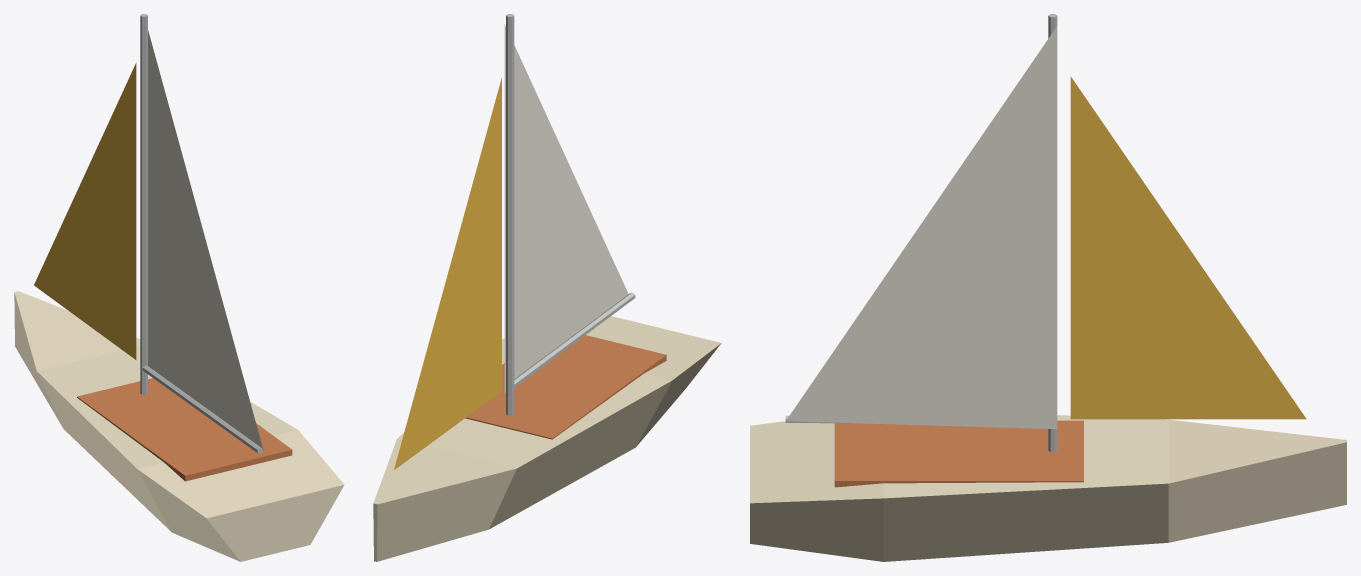
File: sailboat_far.glb
3 renders of one model, left to right at view 1: azimuth 30°, elevation 25°; view 2: azimuth 150°, elevation 25°; view 3: azimuth 270°, elevation 25°, orthographic. The views are drawn at different scales.
Visible parts, largest first — view 1: Sailboat hull, Triangular mainsail, Jib, Teak deck, SailboatModel traffic_metal; view 2: Sailboat hull, Triangular mainsail, Jib, Teak deck, SailboatModel traffic_metal; view 3: Sailboat hull, Triangular mainsail, Jib, Teak deck.
Part boxes in pixels (x1=…): Sailboat hull: x1=14, y1=291, x2=344, y2=561; Triangular mainsail: x1=148, y1=30, x2=263, y2=449; Jib: x1=34, y1=63, x2=136, y2=359; Teak deck: x1=77, y1=378, x2=292, y2=481; SailboatModel traffic_metal: x1=140, y1=14, x2=262, y2=453; Sailboat hull: x1=373, y1=316, x2=721, y2=561; Triangular mainsail: x1=504, y1=24, x2=628, y2=392; Jib: x1=394, y1=77, x2=501, y2=469; Teak deck: x1=465, y1=335, x2=666, y2=439; SailboatModel traffic_metal: x1=506, y1=14, x2=635, y2=415; Sailboat hull: x1=750, y1=415, x2=1346, y2=561; Triangular mainsail: x1=786, y1=26, x2=1057, y2=429; Jib: x1=1070, y1=76, x2=1306, y2=419; Teak deck: x1=834, y1=420, x2=1083, y2=487.
Bounding box in the file's own units: 2.4 × 6.45 × 6.7.
